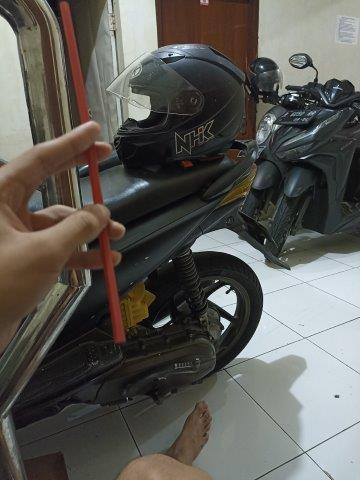sedotan: (61, 1, 126, 340)
